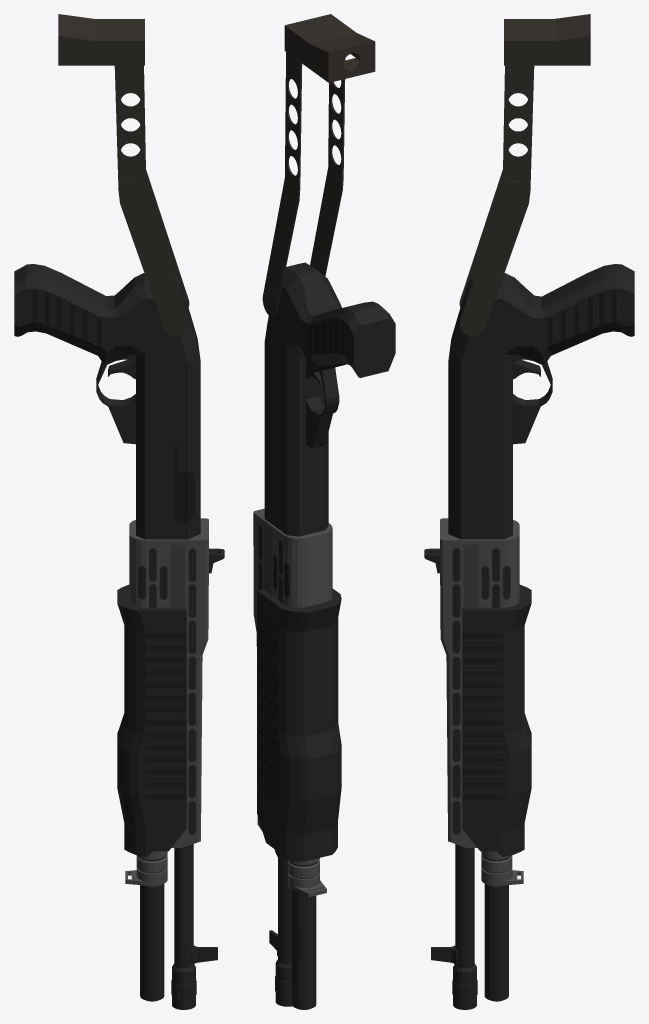
The model's file is spas12extendedstock.fbx.
3 renders of one model, left to right at view 1: azimuth 90°, elevation 25°; view 2: azimuth 210°, elevation 25°; view 3: azimuth 270°, elevation 25°, orthographic. The views are drawn at different scales.
Visible parts, largest first — view 1: SPAS-12; view 2: SPAS-12; view 3: SPAS-12.
Part boxes in pixels (bbox=[...]): SPAS-12: bbox=[14, 14, 224, 1009]; SPAS-12: bbox=[253, 14, 395, 1009]; SPAS-12: bbox=[424, 14, 634, 1009].
Size of the model in its own units: 0.0361 by 0.5855 by 0.1141.
